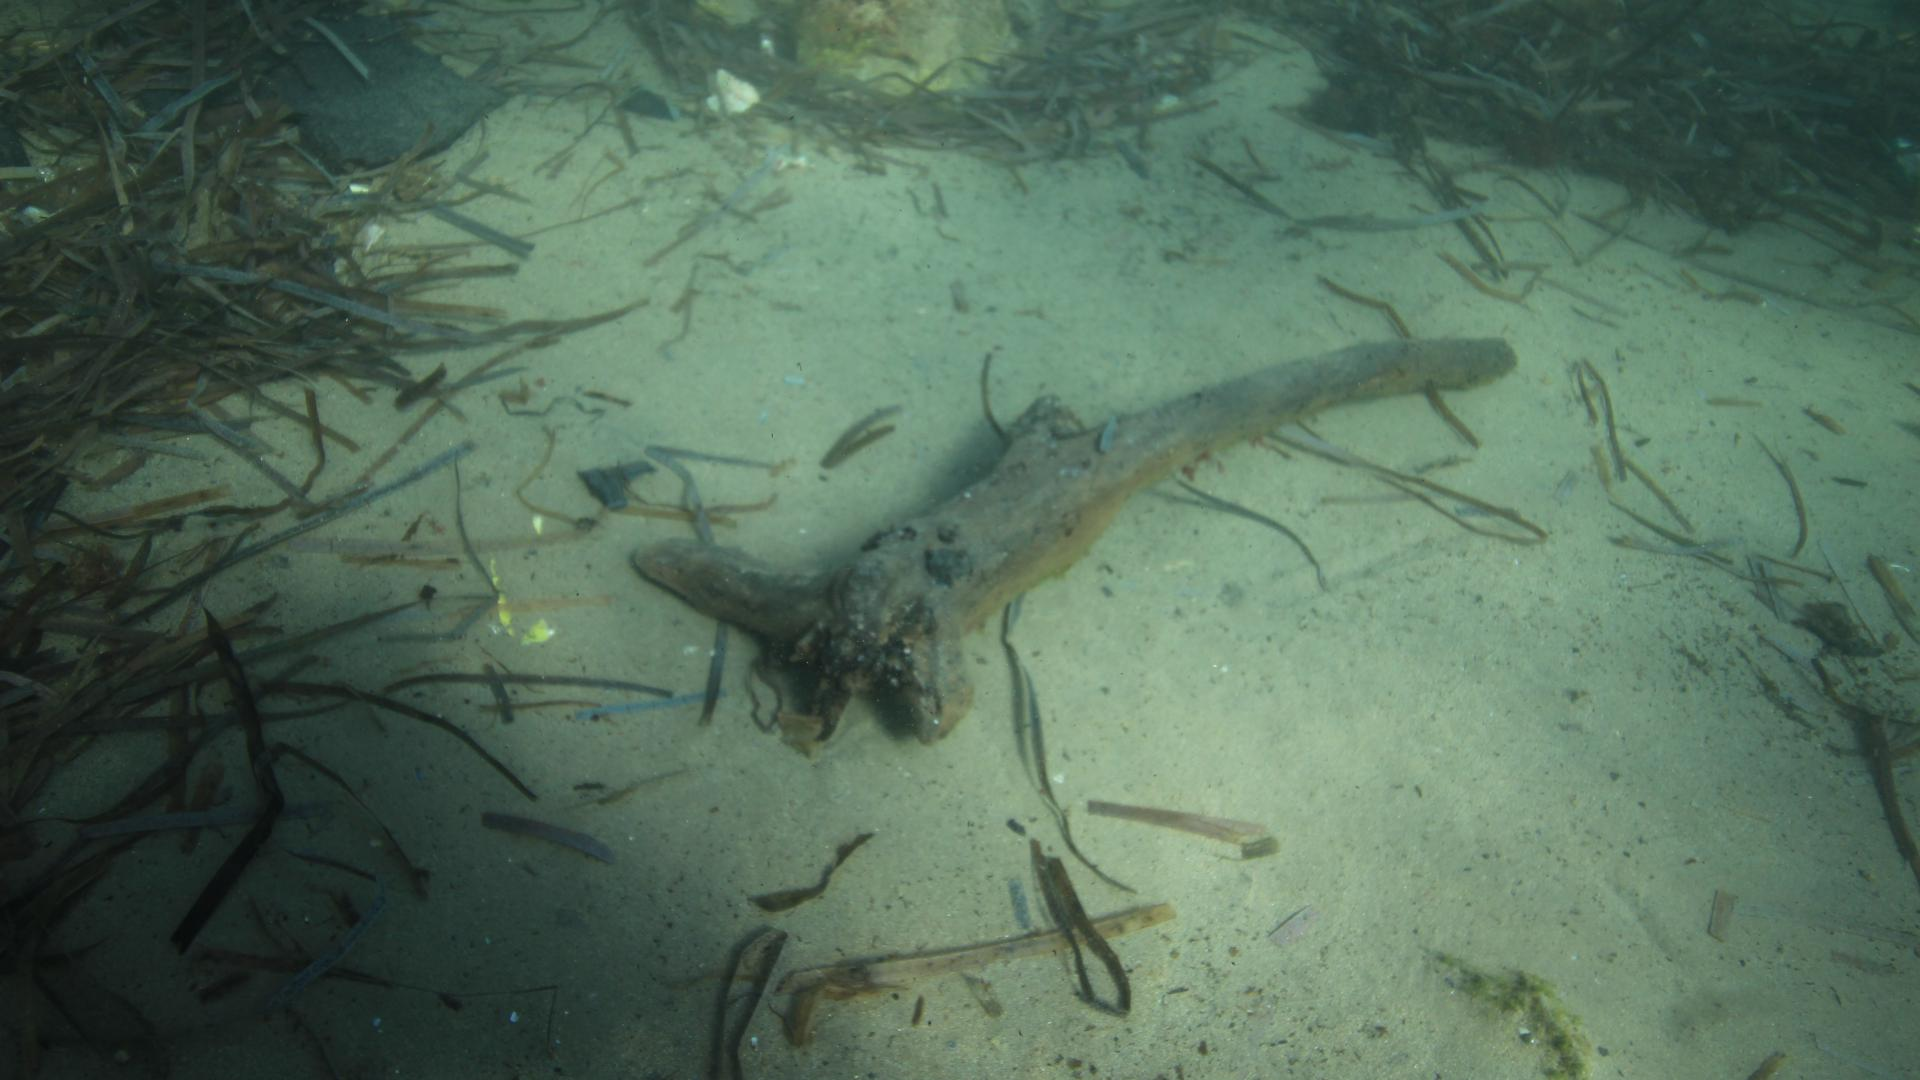wood: (632, 336, 1515, 744)
